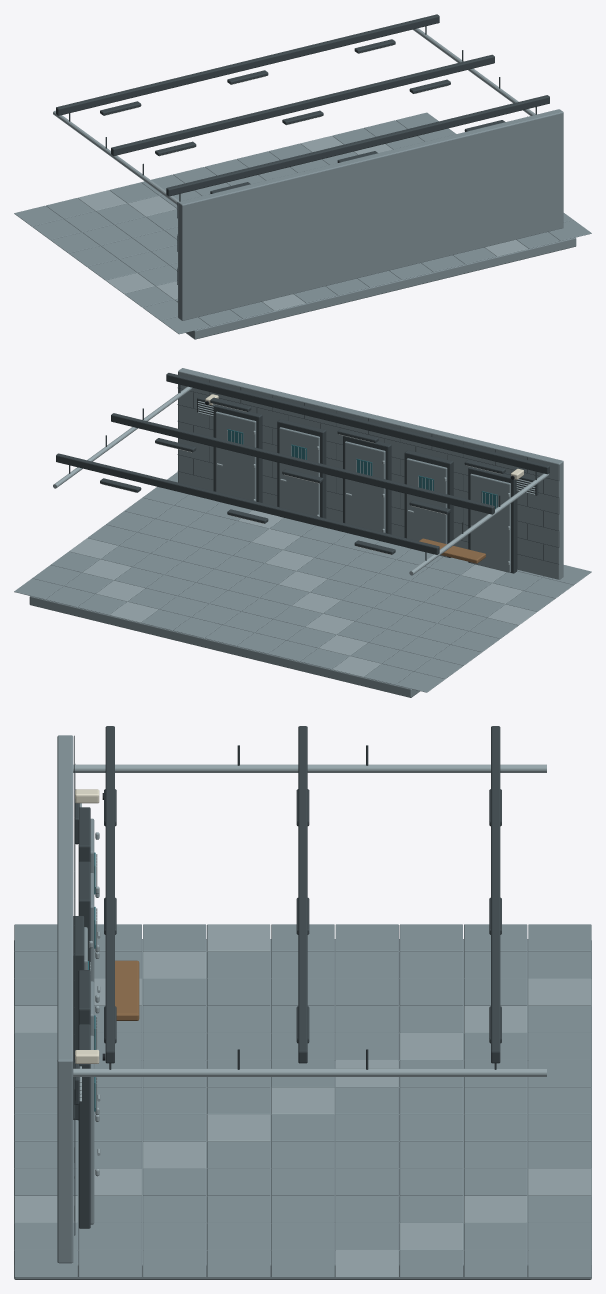
The model's file is corridor.glb.
3 renders of one model, top to bottom at view 1: azimuth 30°, elevation 25°; view 2: azimuth 150°, elevation 25°; view 3: azimuth 270°, elevation 25°, orthographic. The views are drawn at different scales.
Parts seen in each view (by area): view 1: corridor-blue painted masonry, corridor-forged graphite steel, corridor-galvanized edges; view 2: corridor-blue painted masonry, corridor-forged graphite steel, corridor-galvanized edges, corridor-monitor glass, corridor-worn oak; view 3: corridor-blue painted masonry, corridor-galvanized edges, corridor-forged graphite steel, corridor-worn oak, corridor-aged paper.
Part boxes in pixels (left/top/right/bottom): corridor-blue painted masonry: left=14, top=109, right=591, bottom=339; corridor-forged graphite steel: left=56, top=14, right=549, bottom=301; corridor-galvanized edges: left=53, top=28, right=535, bottom=310; corridor-blue painted masonry: left=14, top=368, right=591, bottom=697; corridor-forged graphite steel: left=56, top=373, right=559, bottom=573; corridor-galvanized edges: left=53, top=386, right=548, bottom=677; corridor-monitor glass: left=227, top=429, right=497, bottom=508; corridor-worn oak: left=419, top=538, right=485, bottom=563; corridor-blue painted masonry: left=14, top=735, right=591, bottom=1279; corridor-galvanized edges: left=14, top=764, right=591, bottom=1277; corridor-forged graphite steel: left=73, top=726, right=501, bottom=1235; corridor-worn oak: left=115, top=960, right=139, bottom=1020; corridor-aged paper: left=75, top=789, right=99, bottom=1063.
Bounding box in the file's own units: 12.99 × 3.94 × 9.
